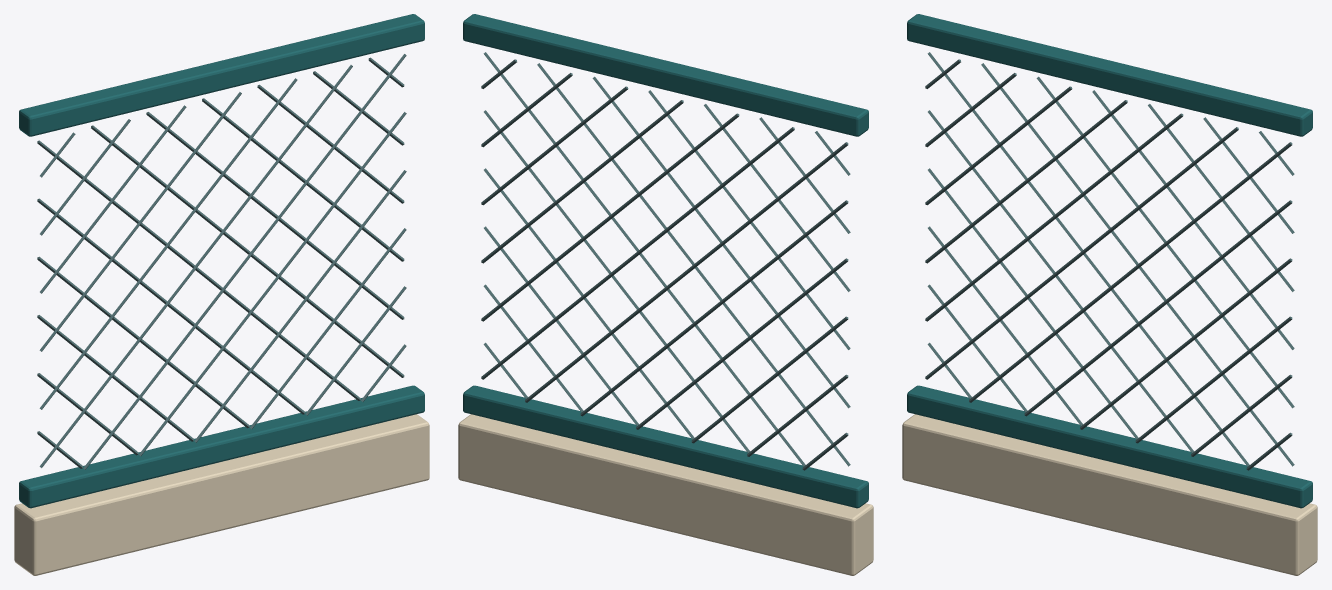
Rendered from fence-panel-2m.glb.
3 views of the same model, side by side, from view 1: azimuth 30°, elevation 25°; view 2: azimuth 150°, elevation 25°; view 3: azimuth 330°, elevation 25° (orthographic).
Visible parts, largest first — view 1: fence-panel-2m-frame-timber-cream, fence-panel-2m-frame-timber-teal, fence-panel-2m-fence-wire-timber-wire; view 2: fence-panel-2m-frame-timber-cream, fence-panel-2m-frame-timber-teal, fence-panel-2m-fence-wire-timber-wire; view 3: fence-panel-2m-frame-timber-cream, fence-panel-2m-frame-timber-teal, fence-panel-2m-fence-wire-timber-wire.
Boxes of the visible parts, x1,y1,x2,y2 form: fence-panel-2m-frame-timber-cream: (14, 414, 429, 575); fence-panel-2m-frame-timber-teal: (19, 14, 424, 508); fence-panel-2m-fence-wire-timber-wire: (37, 54, 406, 469); fence-panel-2m-frame-timber-cream: (458, 414, 873, 575); fence-panel-2m-frame-timber-teal: (463, 14, 868, 508); fence-panel-2m-fence-wire-timber-wire: (481, 52, 850, 470); fence-panel-2m-frame-timber-cream: (902, 414, 1317, 575); fence-panel-2m-frame-timber-teal: (907, 14, 1312, 508); fence-panel-2m-fence-wire-timber-wire: (925, 52, 1294, 470).
Size of the model in its own units: 2 by 2.2 by 0.18.
